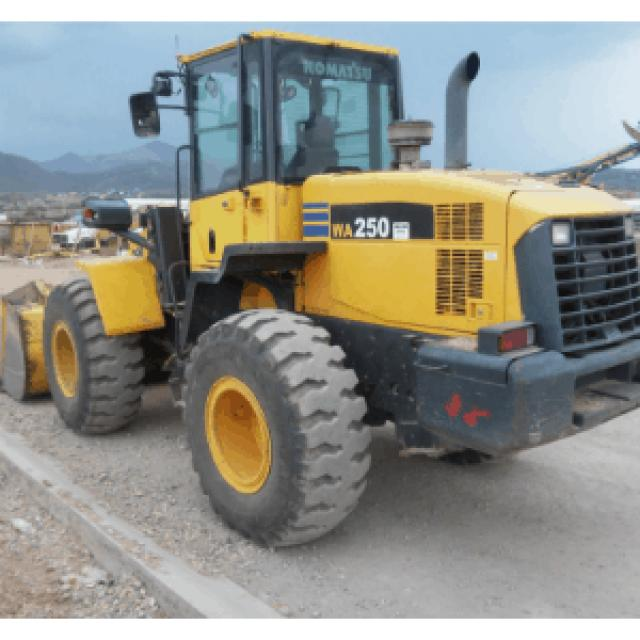bull_dozer/loader/grader: (0, 29, 640, 546)
